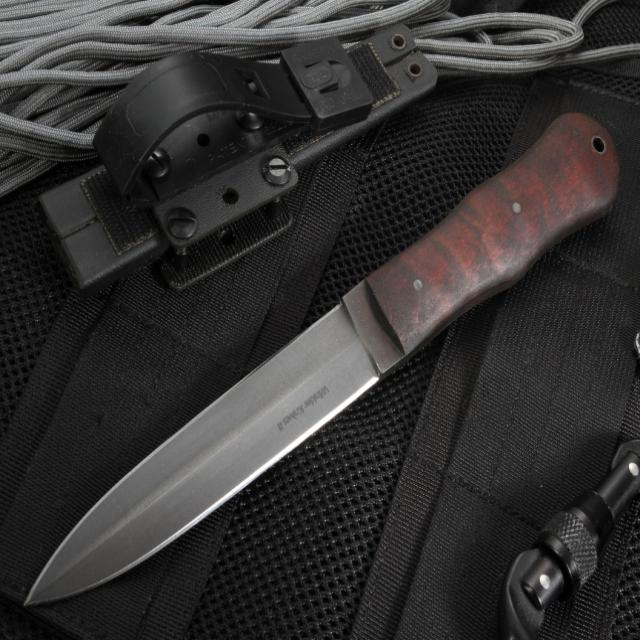knife: (24, 97, 624, 625)
